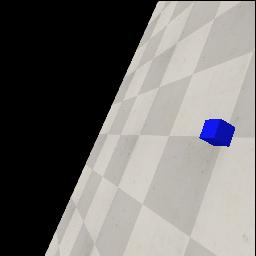box: (199, 119, 235, 147)
